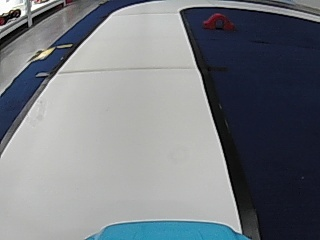bridge: (202, 12, 233, 31)
